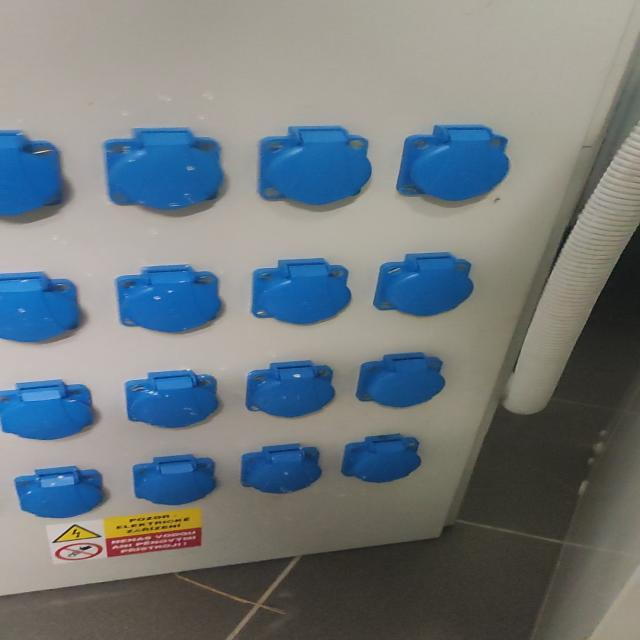house plug covered: (104, 127, 223, 210), (256, 126, 373, 206), (395, 124, 509, 201), (113, 264, 221, 332), (0, 130, 71, 223), (252, 258, 351, 324), (373, 252, 474, 316), (0, 272, 85, 346), (0, 379, 94, 440), (124, 369, 218, 427), (246, 360, 335, 416), (356, 352, 446, 407), (13, 465, 104, 518), (132, 454, 217, 505), (241, 443, 322, 494), (340, 433, 421, 482)
